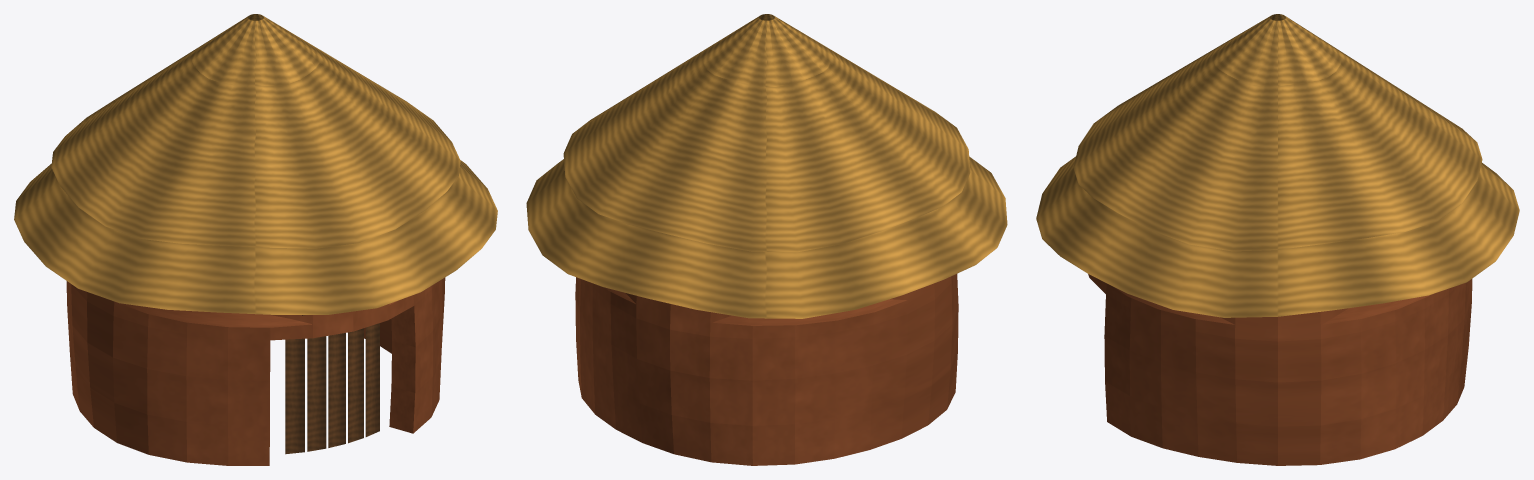
File: SM_HutRound.fbx
3 views of the same model, side by side, from view 1: azimuth 30°, elevation 25°; view 2: azimuth 150°, elevation 25°; view 3: azimuth 270°, elevation 25° (orthographic).
Parts seen in each view (by area): view 1: SM_HutRound; view 2: SM_HutRound; view 3: SM_HutRound.
Boxes of the visible parts, x1,y1,x2,y2 form: SM_HutRound: (14,14,497,465); SM_HutRound: (526,14,1007,465); SM_HutRound: (1036,14,1519,465).
Size of the model in its own units: 480 by 405 by 480.
